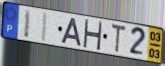2: (128, 27, 148, 61)
A: (60, 17, 83, 48)
H: (82, 19, 104, 52)
I: (40, 11, 49, 43), (23, 8, 32, 39)
T: (110, 23, 127, 55)
